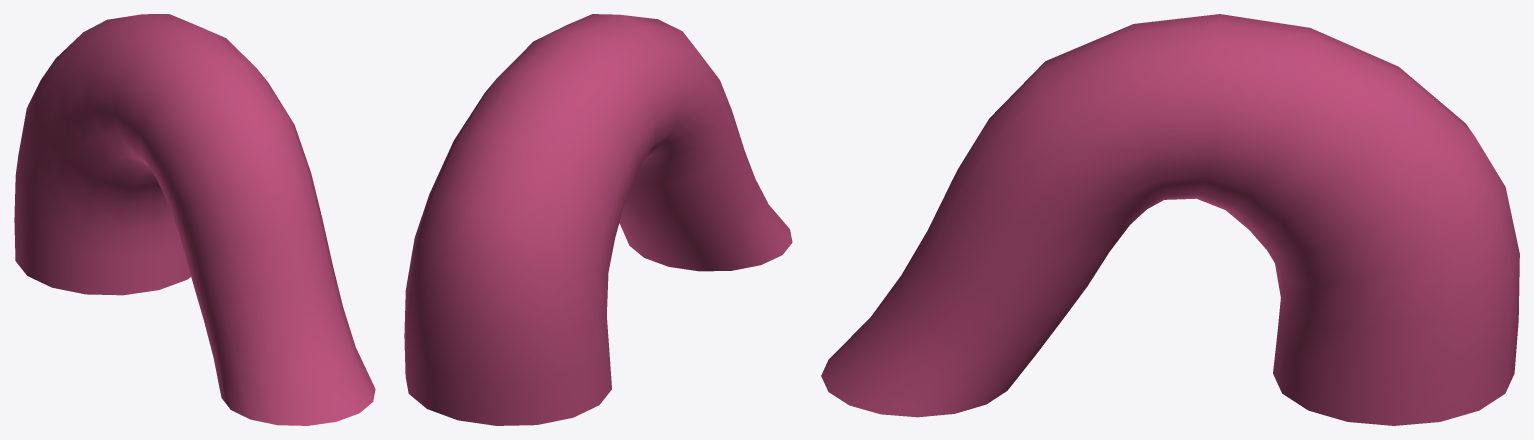
The model's file is dragon's_body.glb.
The picture shows the model from 3 angles, left to right: view 1: azimuth 30°, elevation 25°; view 2: azimuth 150°, elevation 25°; view 3: azimuth 270°, elevation 25°; orthographic projection. The views are drawn at different scales.
Parts seen in each view (by area): view 1: Dragon's Body; view 2: Dragon's Body; view 3: Dragon's Body.
Part boxes in pixels (x1,y1,x2,y2): Dragon's Body: [14, 14, 375, 425]; Dragon's Body: [404, 14, 792, 425]; Dragon's Body: [821, 14, 1519, 425].
Size of what is drawn, in the model's own units: 4.62 by 7.25 by 13.01.
Materials: 1 (1 with a texture image).
